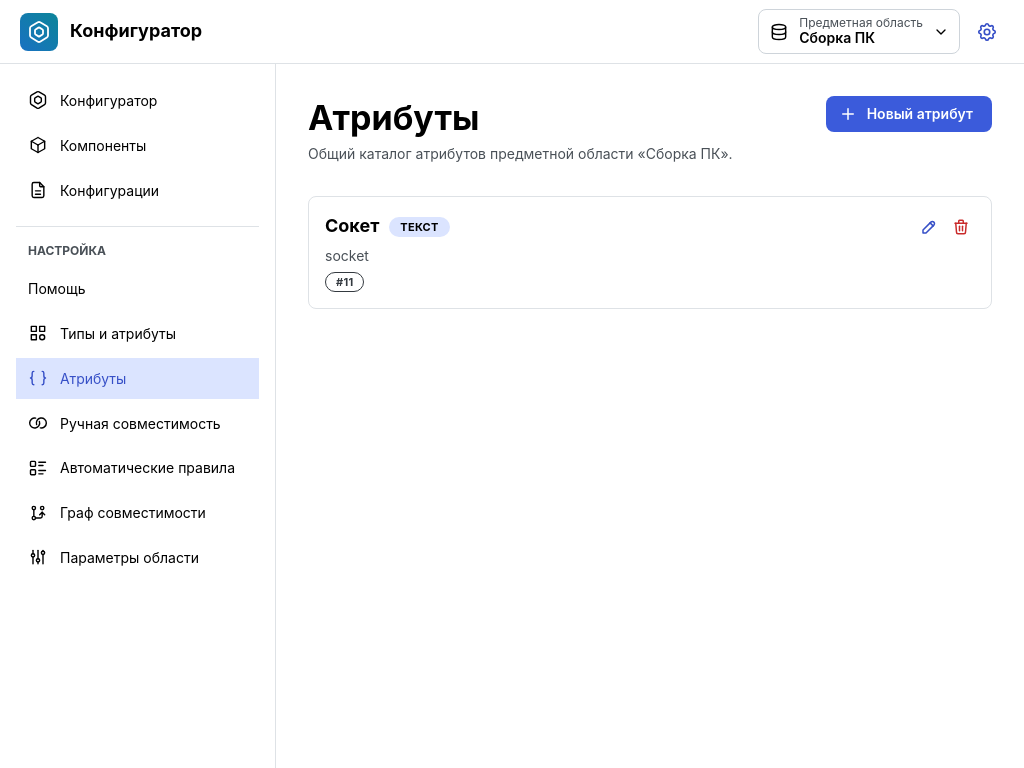
Test: attribute catalog page › updates shared fields and keeps a rule-referenced attribute after a delete conflict
Check: the heading "Сокет" is shown, box [325,214,379,240]
Click the button named "Редактировать атрибут Сокет" at (929, 228), box [915,214,943,242]
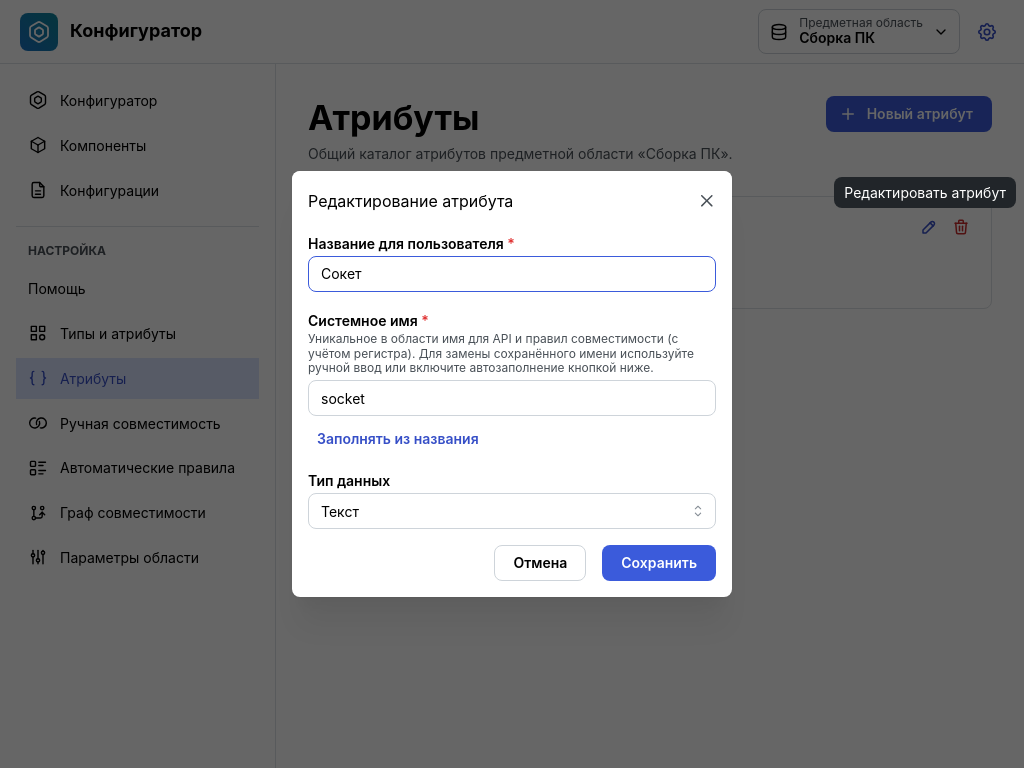
Replace the text in the field labelled "Название для пользователя" with "Разъём" at (512, 274), box [308,256,716,292]
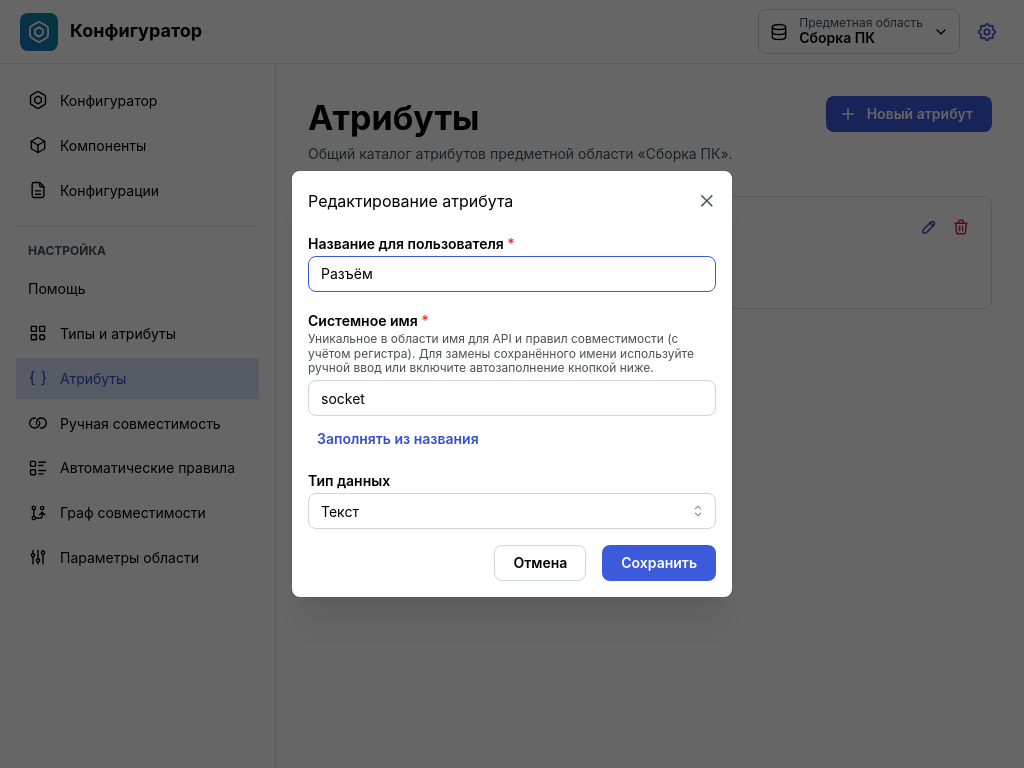
Click the button "Сохранить" at (659, 563), box [602,545,716,581]
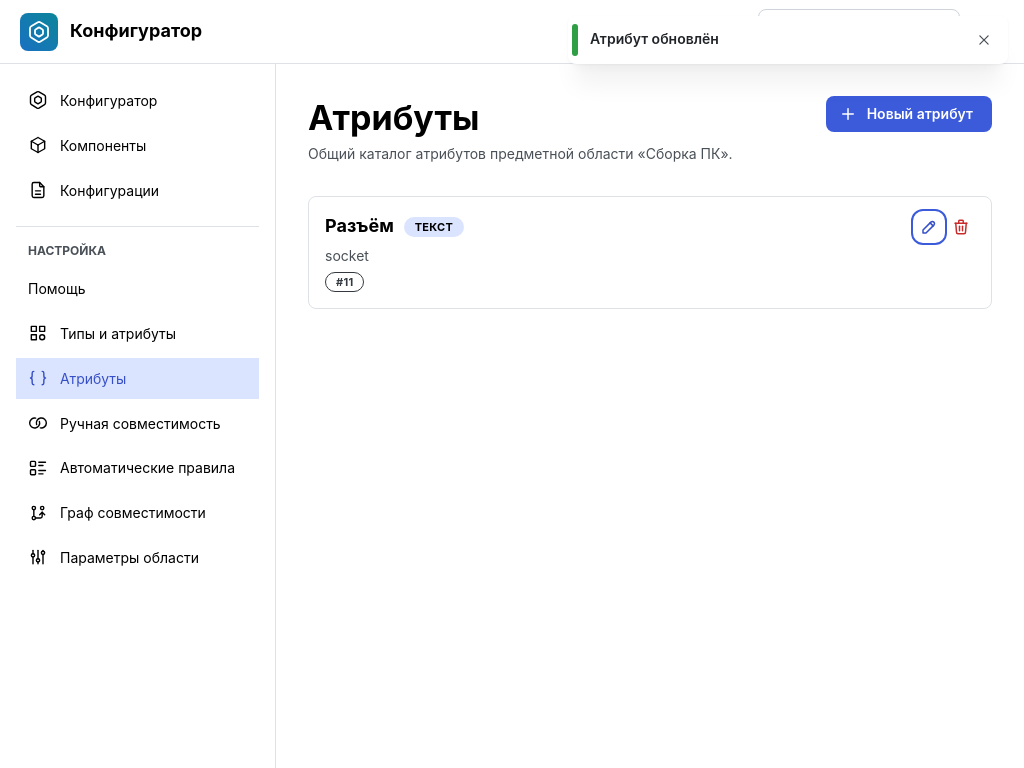
Check: the heading "Разъём" is shown, box [325,214,394,240]
Click the button named "Удалить атрибут Разъём" at (961, 228), box [947,214,975,242]
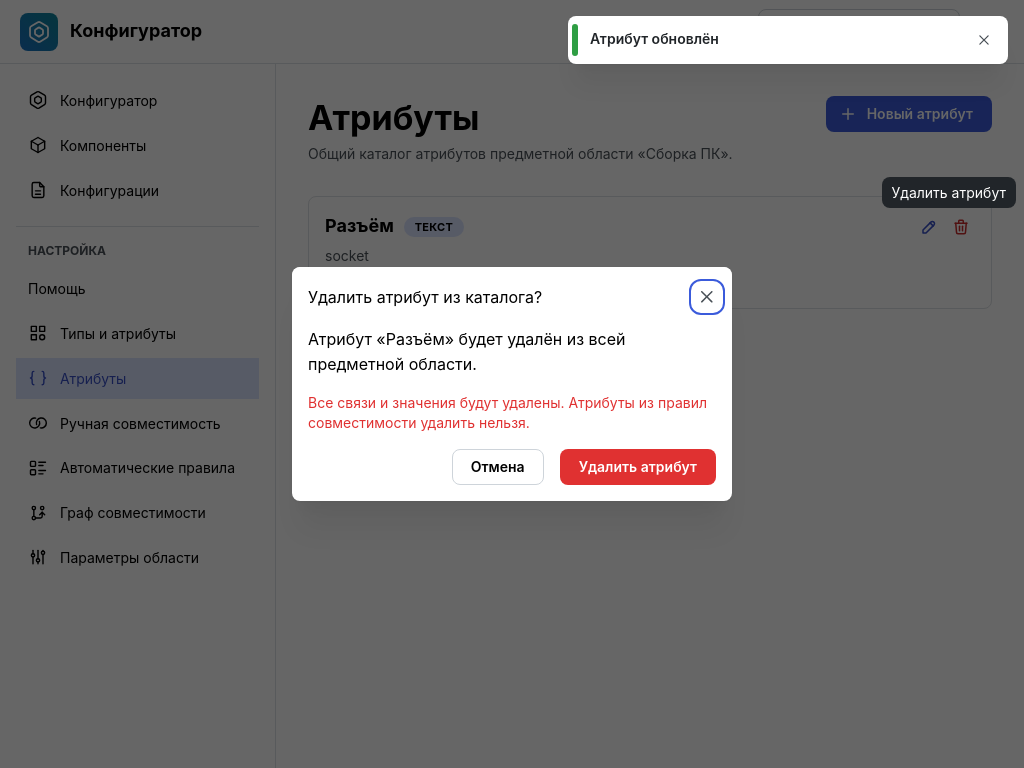
Click the button "Удалить атрибут" at (638, 467), box [560,449,716,485]
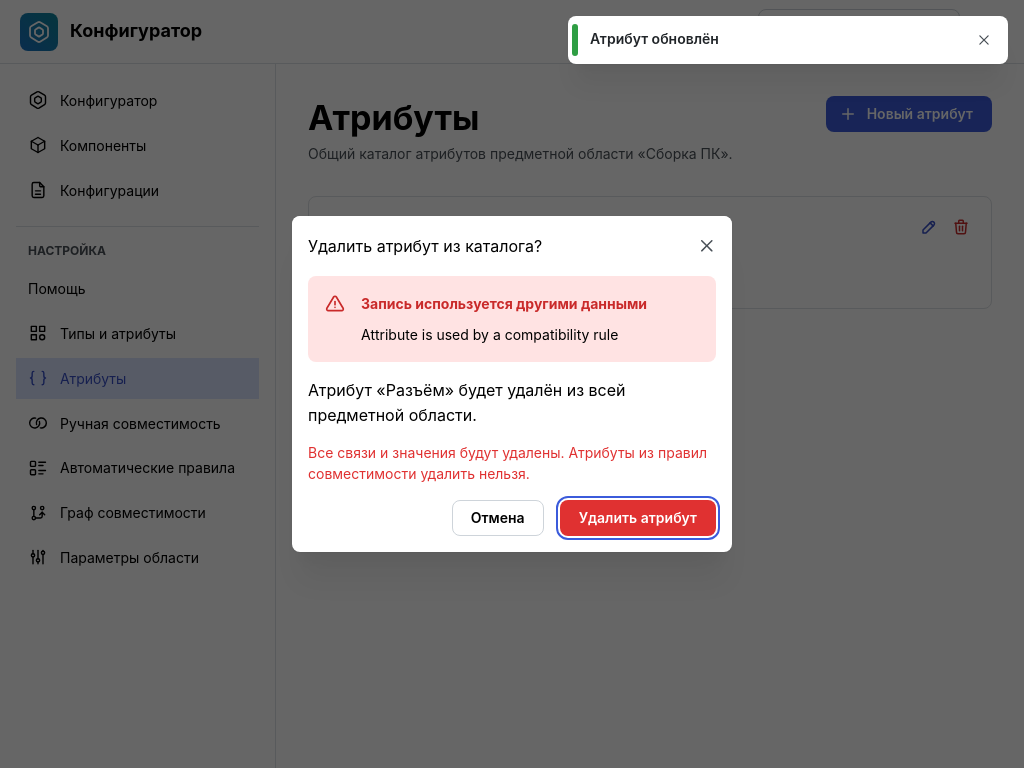
Check: the dialog "Удалить атрибут из каталога?" is shown, box [292,216,732,552]
Check: the heading "Разъём" is shown, box [325,214,394,240]
Check: the text "Запись используется другими данными" is shown, box [361,293,647,315]
